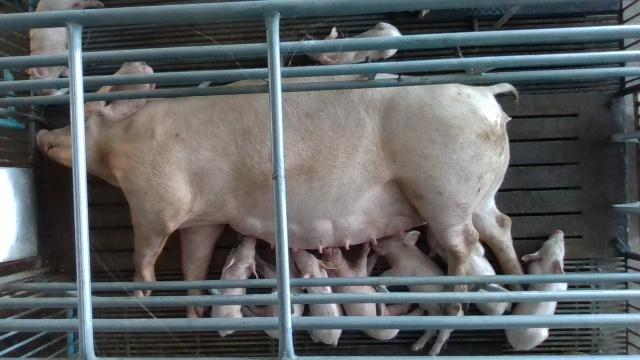piglet: (373, 230, 464, 356), (321, 244, 401, 340), (505, 229, 568, 350), (26, 0, 104, 95), (428, 229, 513, 315), (242, 253, 304, 339), (292, 247, 342, 345), (212, 236, 258, 338), (302, 22, 401, 63)
sow-sleep-lactate: (35, 61, 525, 316)
